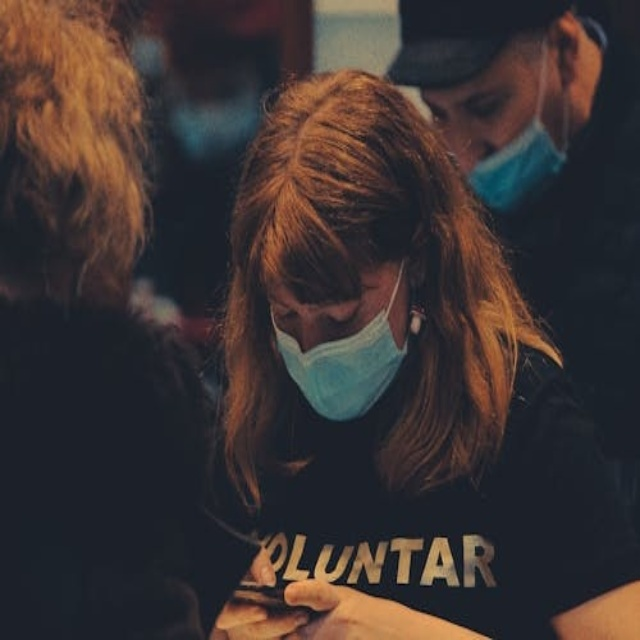Mascara: (265, 304, 419, 411), (467, 70, 570, 218)
Sin_gafas: (274, 285, 372, 340), (424, 89, 508, 138)
